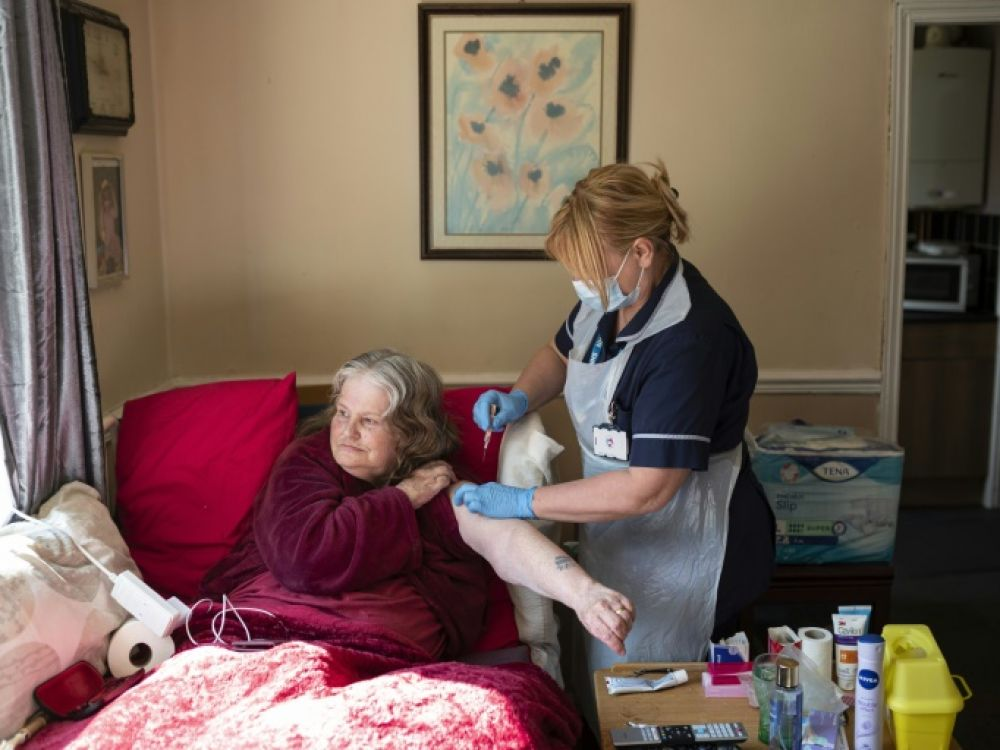with_mask: (554, 228, 657, 318)
without_mask: (325, 380, 401, 475)
